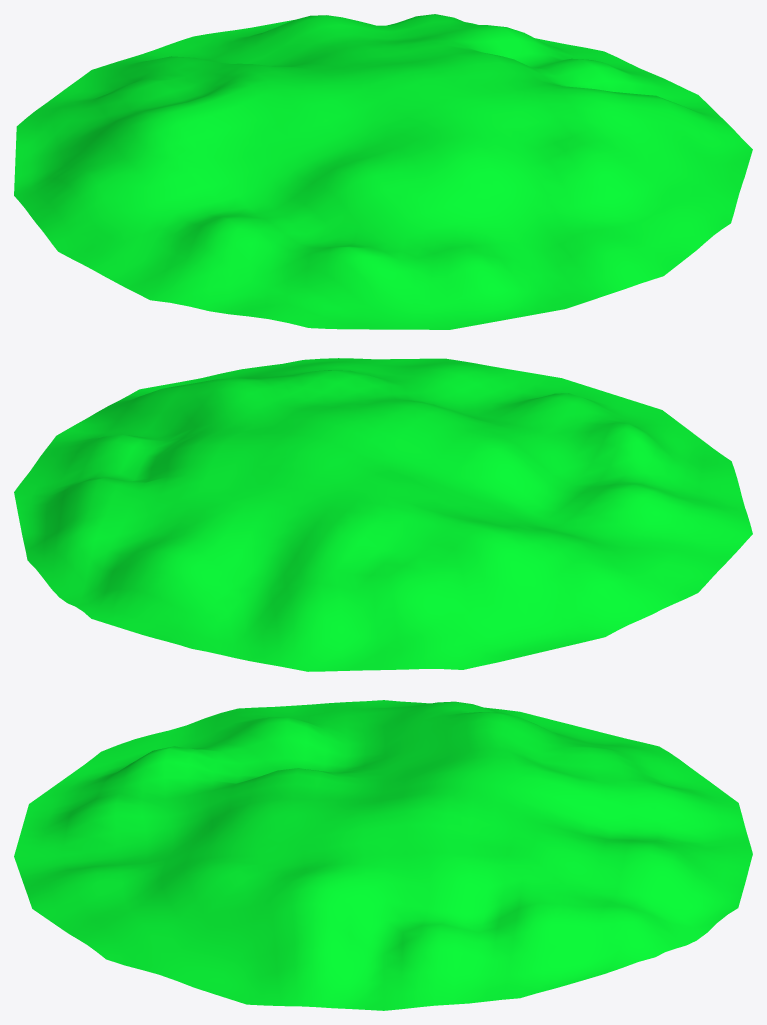
The model's file is Mash_Material.FBX.
3 views of the same model, one above another, from view 1: azimuth 30°, elevation 25°; view 2: azimuth 150°, elevation 25°; view 3: azimuth 270°, elevation 25° (orthographic).
Parts seen in each view (by area): view 1: Mash_Model; view 2: Mash_Model; view 3: Mash_Model.
Part boxes in pixels (x1=…): Mash_Model: x1=14, y1=14, x2=752, y2=329; Mash_Model: x1=14, y1=358, x2=752, y2=671; Mash_Model: x1=14, y1=700, x2=752, y2=1010.
Size of the model in its own units: 25.68 by 3.04 by 25.75.
